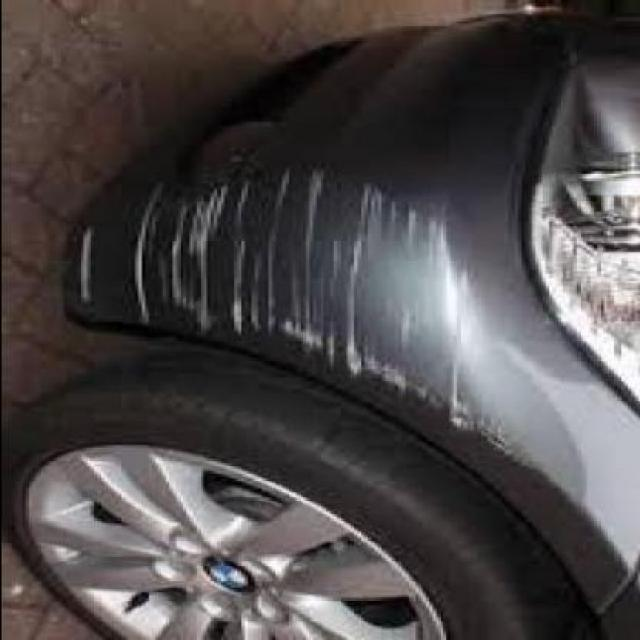damage: (127, 169, 469, 433)
